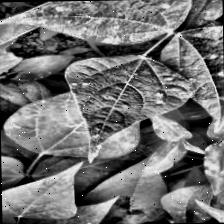Bean Rust: (64, 52, 196, 162), (0, 0, 189, 51), (163, 24, 224, 132), (0, 22, 40, 87)
